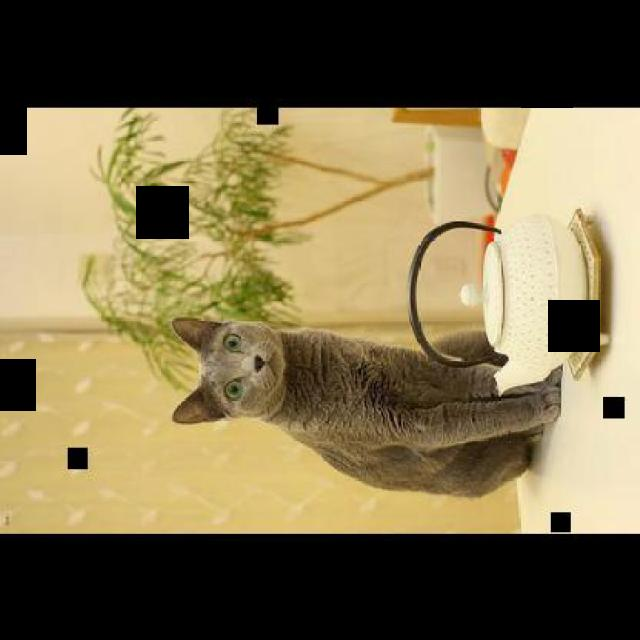unauthorized: (169, 314, 563, 498)
